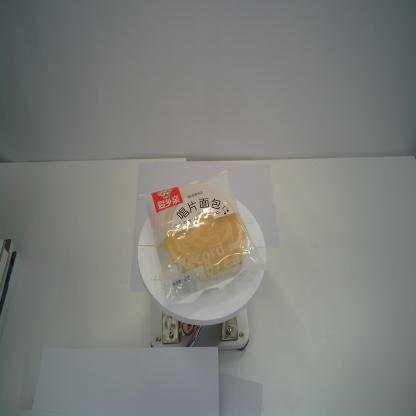Dessert: (139, 166, 265, 310)
